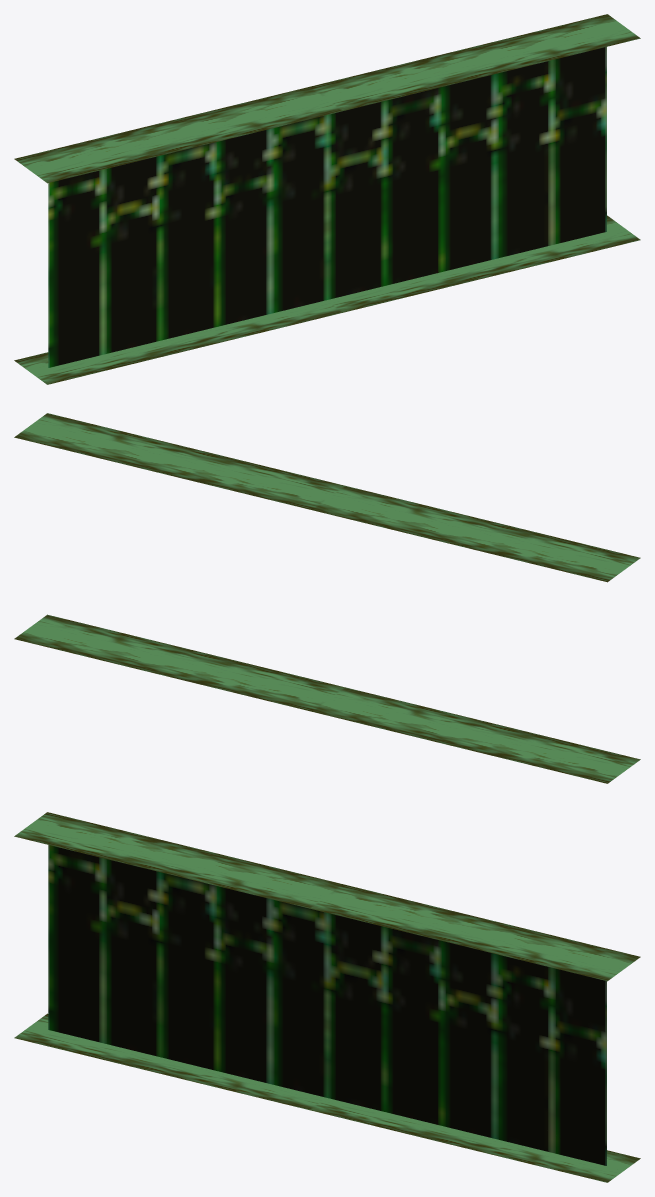
File: Geländer1 [GrünesMetallGrün]_2362.glb
The picture shows the model from 3 angles, top to bottom: view 1: azimuth 30°, elevation 25°; view 2: azimuth 150°, elevation 25°; view 3: azimuth 330°, elevation 25°; orthographic projection.
Visible parts, largest first — view 1: pPlaneShape223, pPlaneShape224, pPlaneShape225; view 2: pPlaneShape224, pPlaneShape225; view 3: pPlaneShape223, pPlaneShape224, pPlaneShape225.
Part boxes in pixels (box(x1,y1,x2,y2)): pPlaneShape223: box(48, 47, 606, 367); pPlaneShape224: box(14, 14, 640, 183); pPlaneShape225: box(14, 215, 640, 384); pPlaneShape224: box(14, 413, 640, 582); pPlaneShape225: box(14, 614, 640, 783); pPlaneShape223: box(48, 845, 606, 1165); pPlaneShape224: box(14, 812, 640, 981); pPlaneShape225: box(14, 1013, 640, 1182).
Bounding box in the file's own units: 0.25 × 0.0811 × 0.0243.
Materials: 3 (3 with a texture image).
